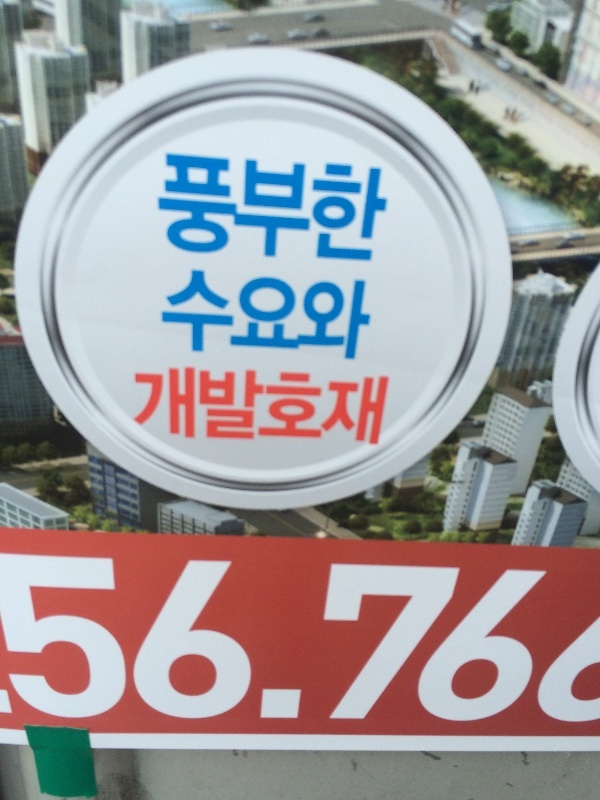text: (1, 544, 16, 733), (17, 544, 32, 733), (33, 544, 48, 733), (49, 544, 64, 733), (65, 544, 80, 733), (81, 544, 96, 733), (97, 544, 112, 733), (113, 544, 128, 733), (129, 544, 144, 733), (145, 544, 160, 733), (161, 544, 176, 733), (177, 544, 192, 733), (193, 544, 208, 733), (209, 544, 224, 733), (225, 544, 240, 733), (241, 544, 256, 733), (257, 544, 272, 733), (273, 544, 288, 733), (289, 544, 304, 733), (305, 544, 320, 733), (321, 544, 336, 733), (337, 544, 352, 733), (353, 544, 368, 733), (369, 544, 384, 733), (385, 544, 400, 733), (401, 544, 416, 733), (417, 544, 432, 733), (433, 544, 448, 733), (449, 544, 464, 733), (465, 544, 480, 733), (481, 544, 496, 733), (497, 544, 512, 733), (513, 544, 528, 733), (529, 544, 544, 733), (545, 544, 560, 733), (561, 544, 576, 733), (577, 544, 592, 733), (161, 144, 176, 267), (177, 144, 192, 267), (193, 144, 208, 267), (209, 144, 224, 267), (225, 144, 240, 267), (241, 144, 256, 267), (257, 144, 272, 267), (273, 144, 288, 267), (289, 144, 304, 267), (305, 144, 320, 267), (321, 144, 336, 267), (337, 144, 352, 267), (353, 144, 368, 267), (369, 144, 384, 267), (177, 264, 192, 366), (193, 264, 208, 366), (209, 264, 224, 366), (225, 264, 240, 366), (241, 264, 256, 366), (257, 264, 272, 366), (273, 264, 288, 366), (289, 264, 304, 366), (305, 264, 320, 366), (321, 264, 336, 366), (337, 264, 352, 366), (353, 264, 368, 366), (145, 363, 160, 455), (161, 363, 176, 455), (177, 363, 192, 455), (193, 363, 208, 455), (209, 363, 224, 455), (225, 363, 240, 455), (241, 363, 256, 455), (257, 363, 272, 455), (273, 363, 288, 455), (289, 363, 304, 455), (305, 363, 320, 455), (321, 363, 336, 455), (337, 363, 352, 455), (353, 363, 368, 455), (369, 363, 384, 455), (593, 544, 600, 733), (385, 144, 395, 267), (165, 264, 176, 366), (134, 363, 144, 455), (369, 264, 377, 366), (385, 363, 393, 455), (158, 144, 160, 267)
